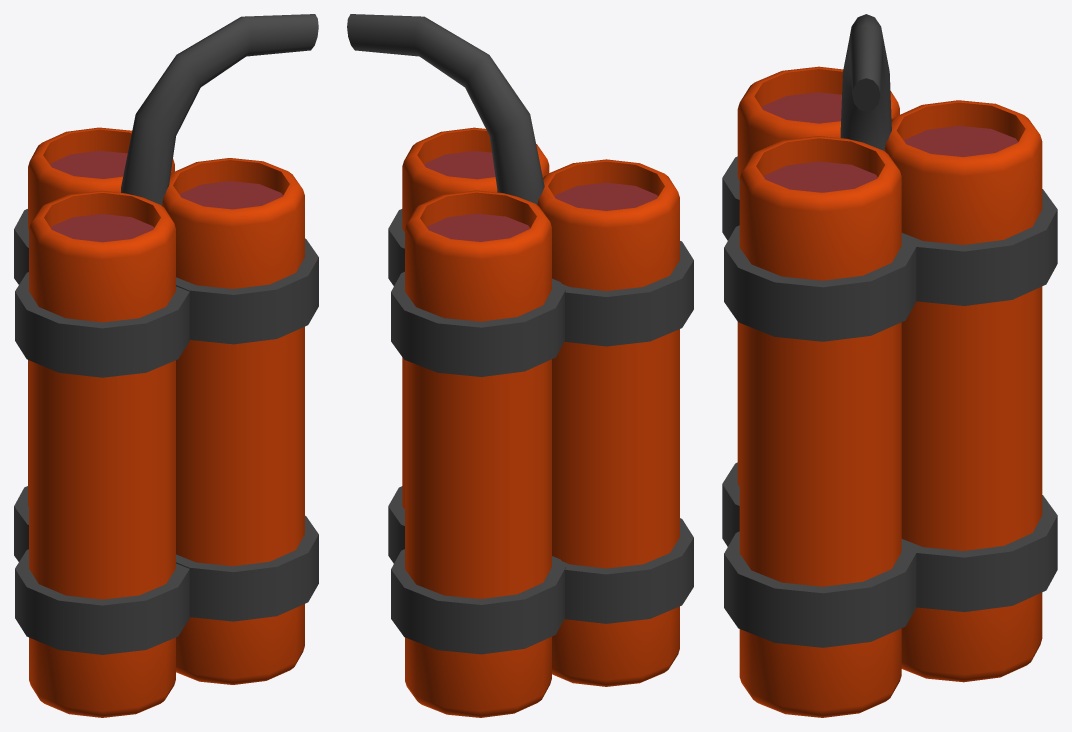
Rendered from Bomb_1C.fbx.
The picture shows the model from 3 angles, left to right: view 1: azimuth 30°, elevation 25°; view 2: azimuth 150°, elevation 25°; view 3: azimuth 270°, elevation 25°; orthographic projection. The views are drawn at different scales.
Parts seen in each view (by area): view 1: Bomb_1C; view 2: Bomb_1C; view 3: Bomb_1C.
Part boxes in pixels (x1,y1,x2,y2): Bomb_1C: [14, 14, 318, 717]; Bomb_1C: [347, 14, 693, 717]; Bomb_1C: [722, 14, 1057, 717].
Bounding box in the file's own units: 0.1974 × 0.3766 × 0.1675.
